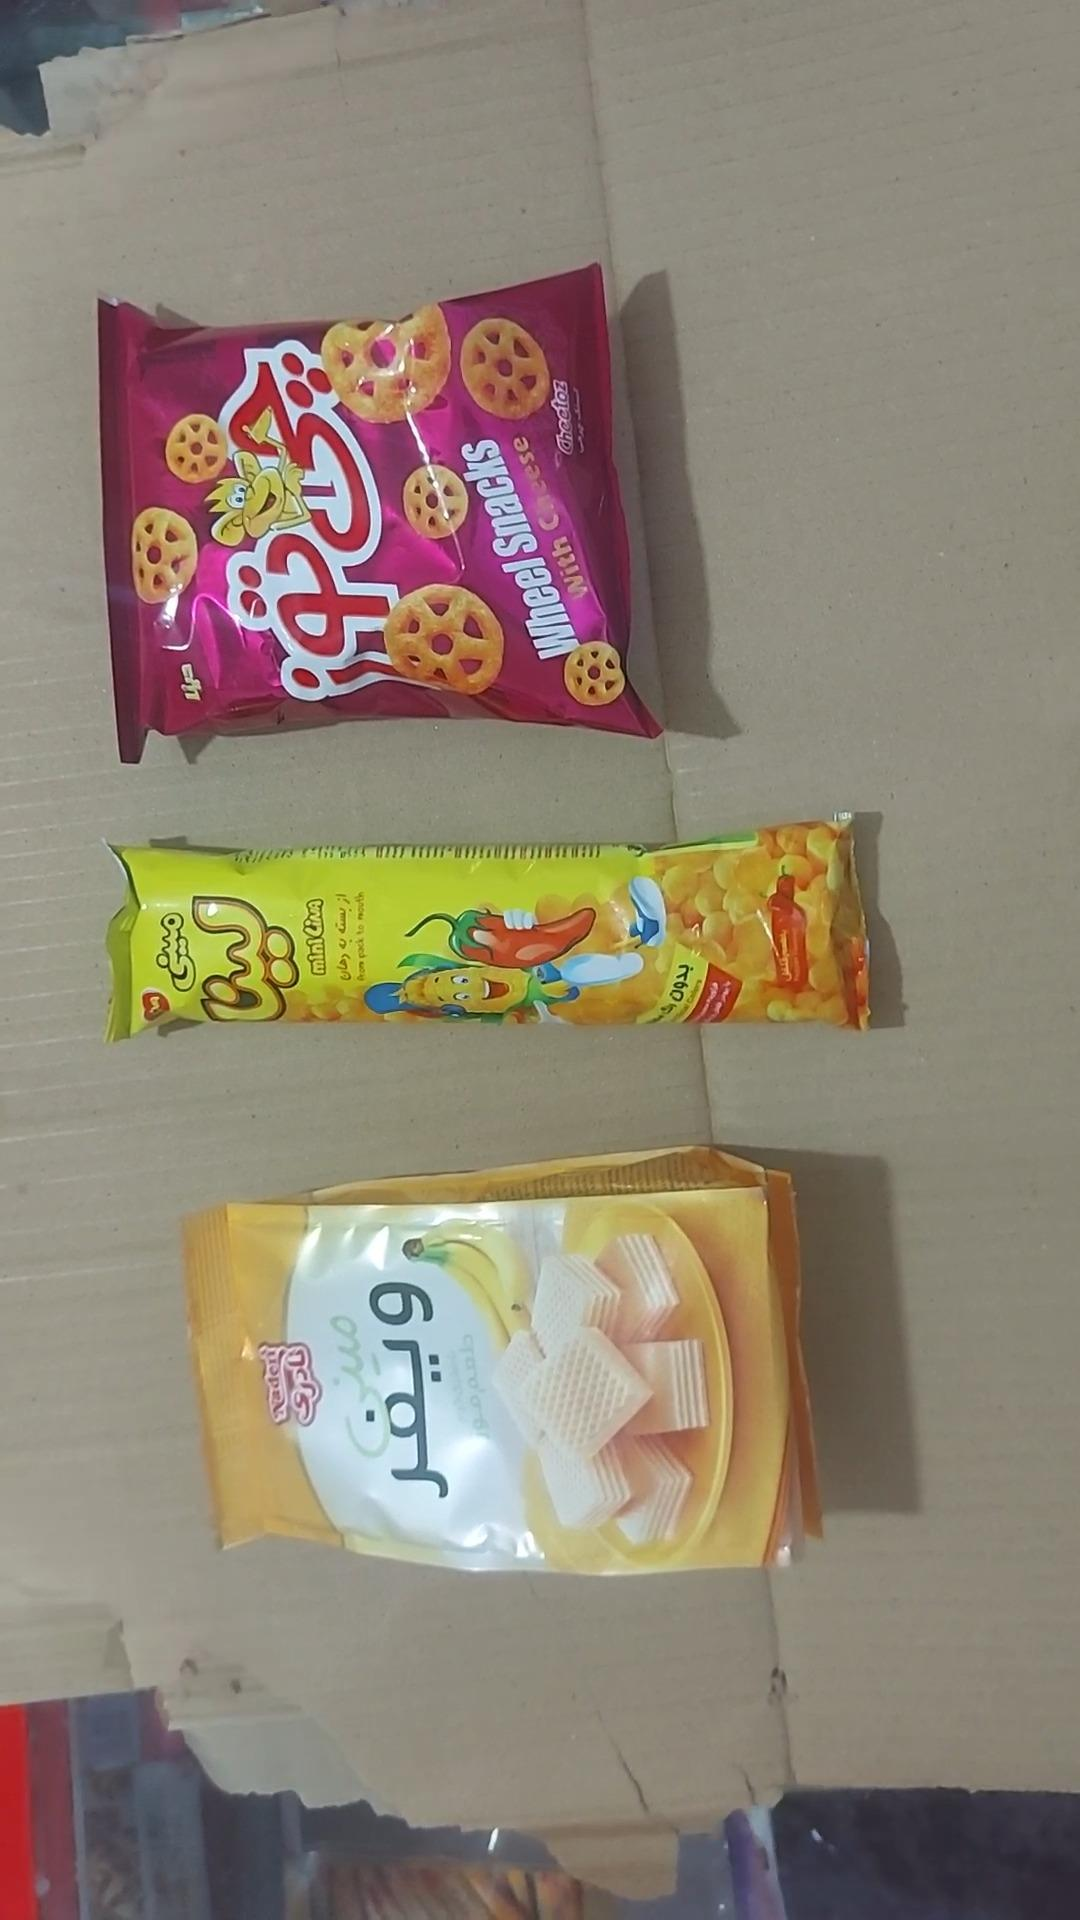Cheetoz wheelsnack: (98, 264, 661, 762)
Mini Lina: (107, 820, 869, 1039)
Naderi mini wafer: (183, 1150, 820, 1575)
